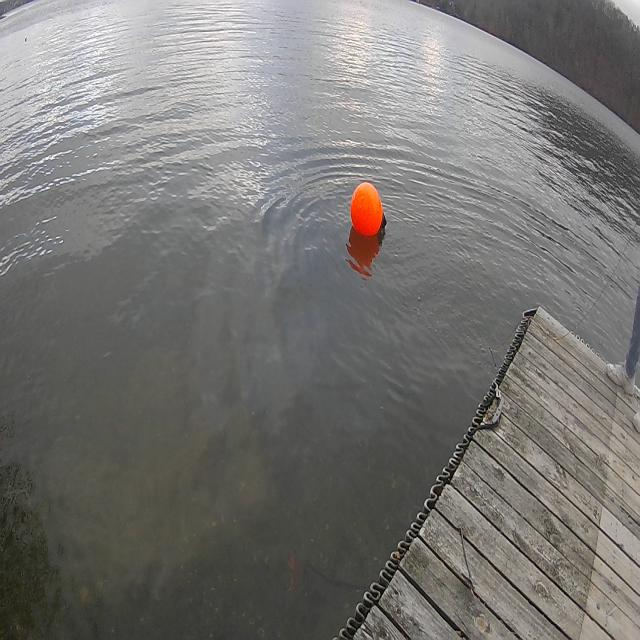Buoy: (348, 178, 389, 255)
